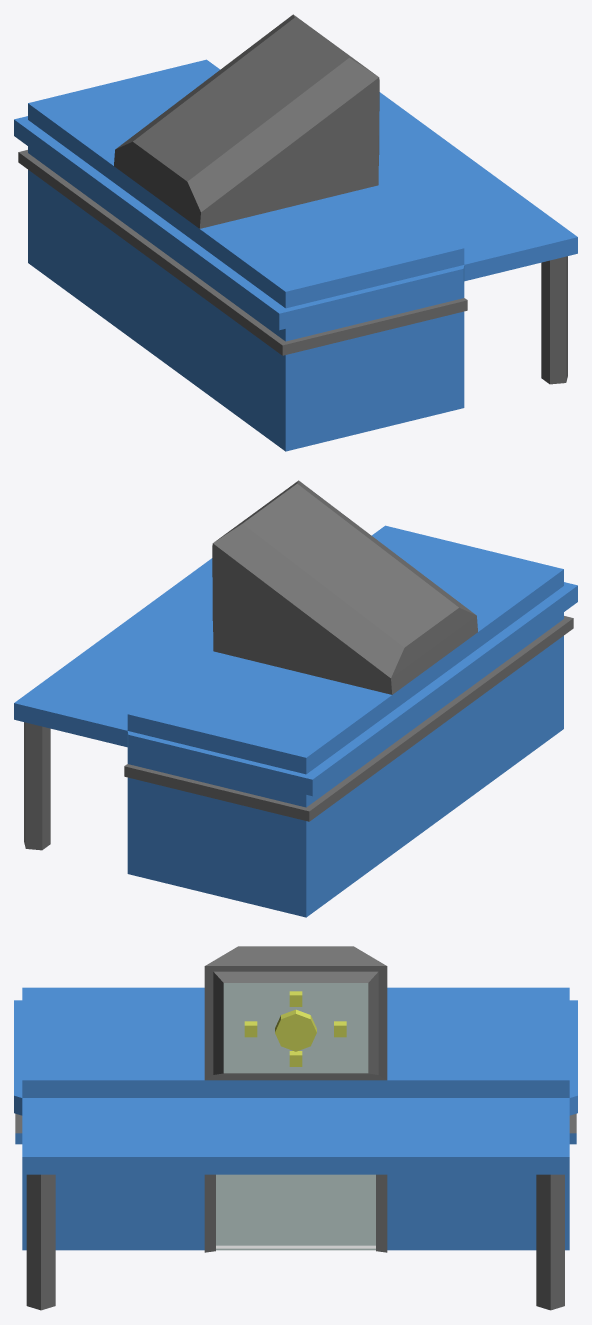
File: Store 2.fbx
The picture shows the model from 3 angles, top to bottom: view 1: azimuth 30°, elevation 25°; view 2: azimuth 150°, elevation 25°; view 3: azimuth 270°, elevation 25°; orthographic projection. The views are drawn at different scales.
Visible parts, largest first — view 1: pCube12; view 2: pCube12; view 3: pCube12.
Boxes of the visible parts, x1,y1,x2,y2 form: pCube12: [14, 14, 577, 451]; pCube12: [14, 480, 577, 917]; pCube12: [14, 946, 577, 1310].
Size of the model in its own units: 17.63 by 15.66 by 26.8.
